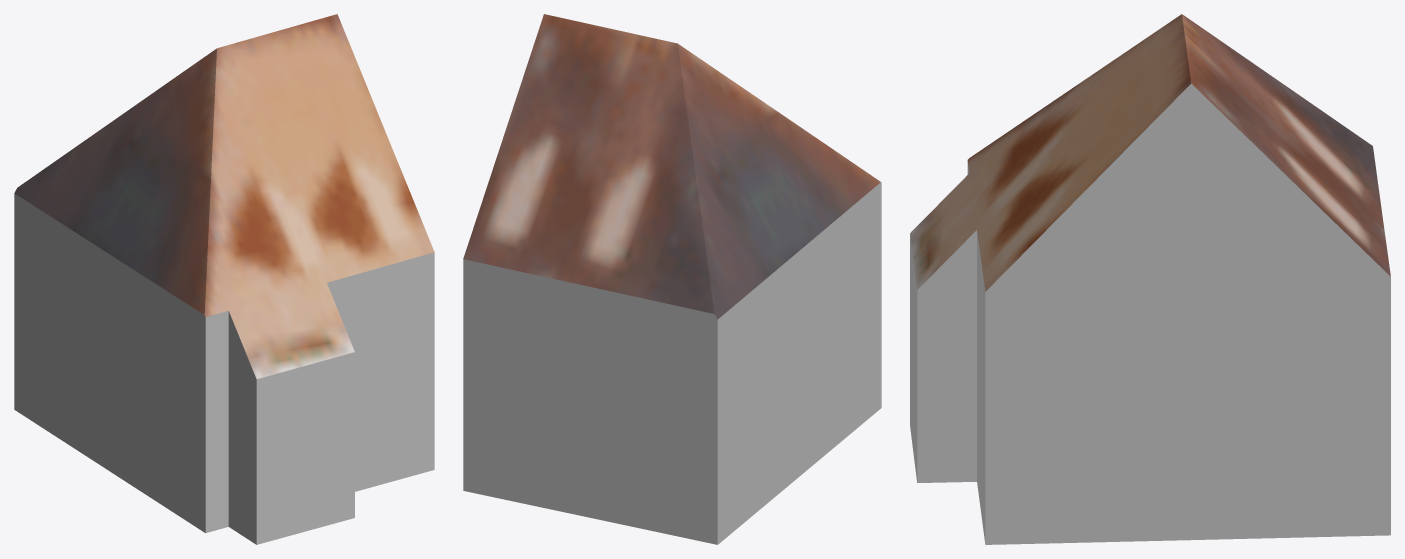
File: DEBW_0010007TxeR.gltf
3 views of the same model, side by side, from view 1: azimuth 30°, elevation 25°; view 2: azimuth 150°, elevation 25°; view 3: azimuth 270°, elevation 25° (orthographic). The views are drawn at different scales.
Visible parts, largest first — view 1: Z_UP; view 2: Z_UP; view 3: Z_UP.
Part boxes in pixels (<box>): Z_UP: <box>14,14,434,544</box>; Z_UP: <box>463,14,881,544</box>; Z_UP: <box>910,14,1390,544</box>.
Size of the model in its own units: 8.58 by 12.71 by 12.13.
Materials: 2 (1 with a texture image).
